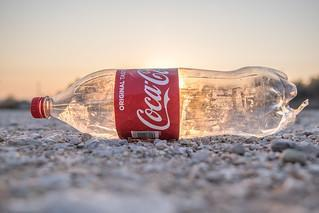bottle: (29, 62, 304, 170)
